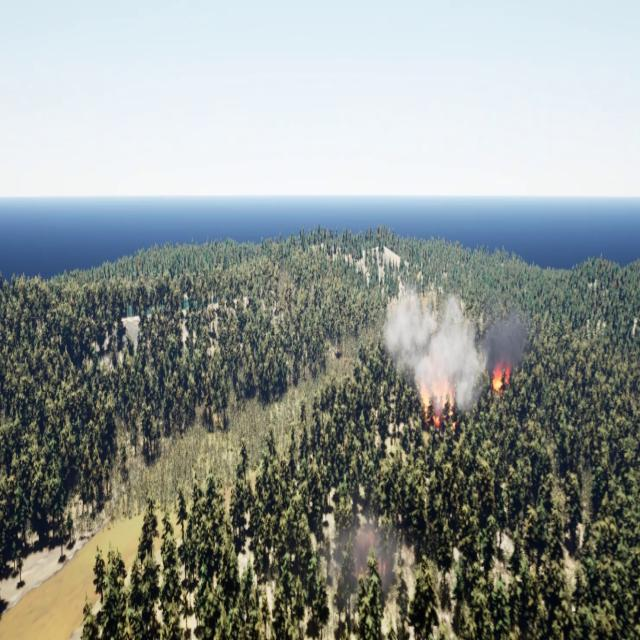fire: (417, 375, 454, 418), (488, 351, 512, 390)
smoke: (376, 282, 528, 416), (336, 516, 401, 588)
